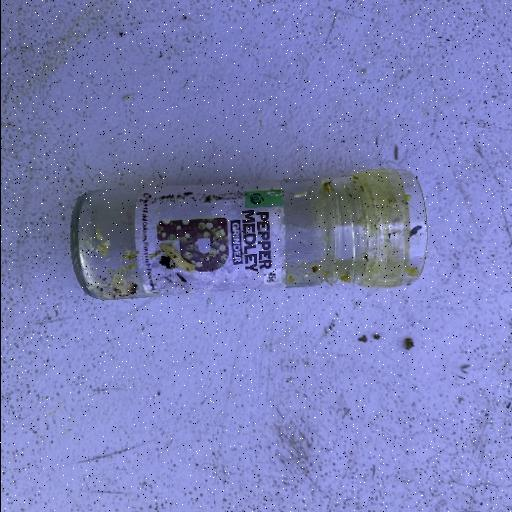Plastic: (68, 165, 428, 302)
